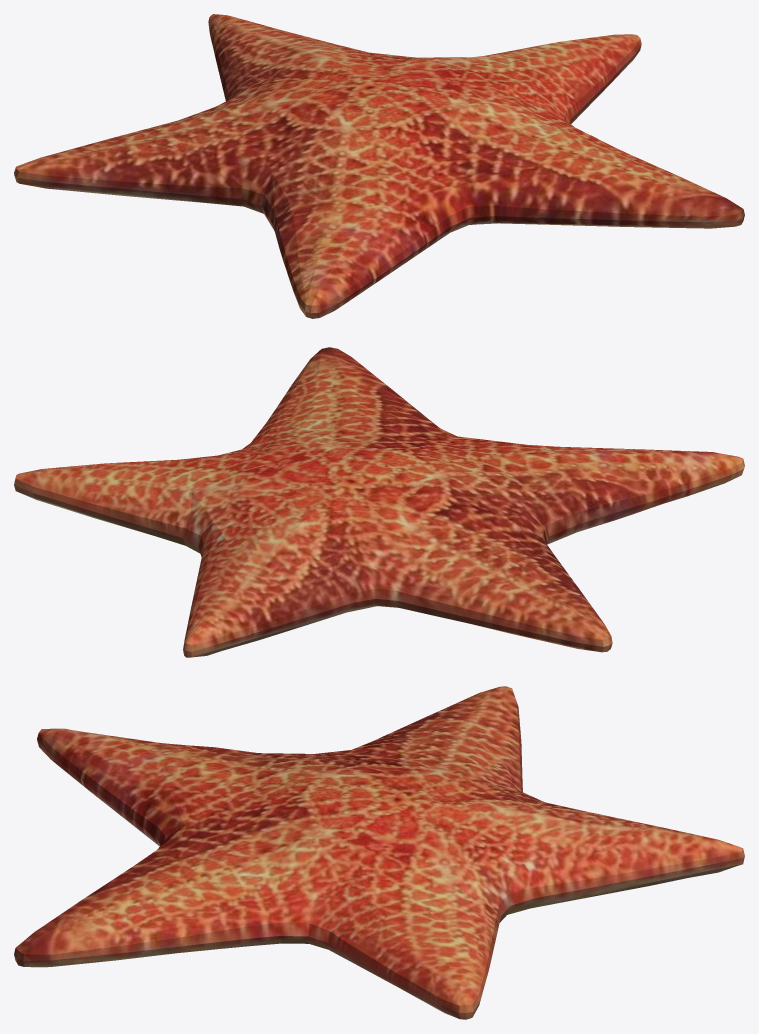
The model's file is starfish.glb.
3 views of the same model, one above another, from view 1: azimuth 30°, elevation 25°; view 2: azimuth 150°, elevation 25°; view 3: azimuth 270°, elevation 25° (orthographic). The views are drawn at different scales.
Visible parts, largest first — view 1: starfish; view 2: starfish; view 3: starfish.
Part boxes in pixels (x1,y1,x2,y2): starfish: (14, 14, 744, 318); starfish: (14, 347, 744, 657); starfish: (14, 686, 744, 1019).
Bounding box in the file's own units: 1 × 0.1066 × 0.9646.
Materials: 1 (1 with a texture image).
